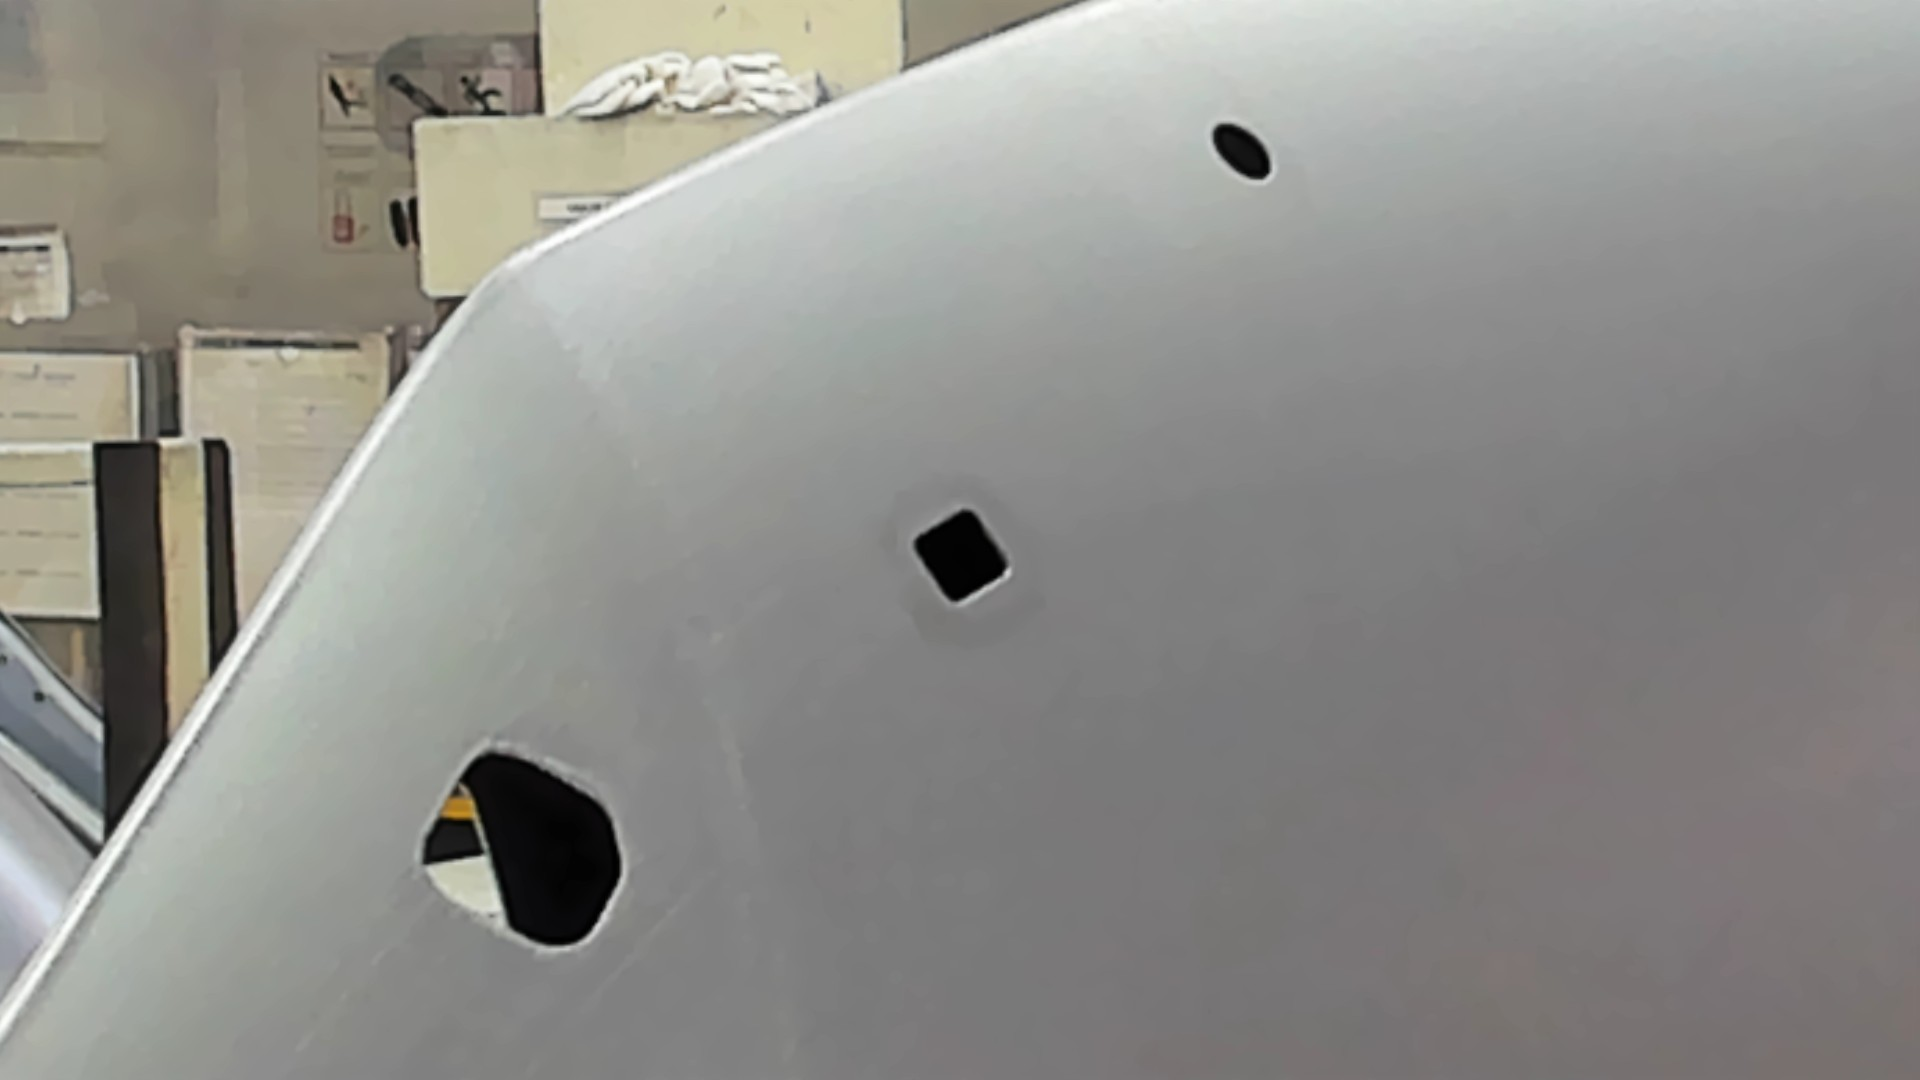chico: (1207, 113, 1276, 185)
grande: (409, 732, 634, 961)
mediano: (905, 505, 1017, 609)
